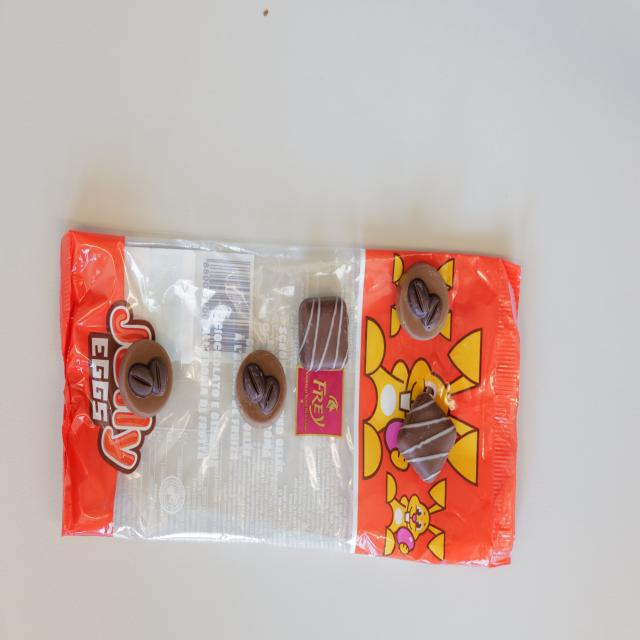Arabia: (119, 339, 173, 418), (396, 262, 450, 341), (235, 350, 288, 428)
Stracciatella: (397, 391, 456, 484), (298, 296, 351, 371)
